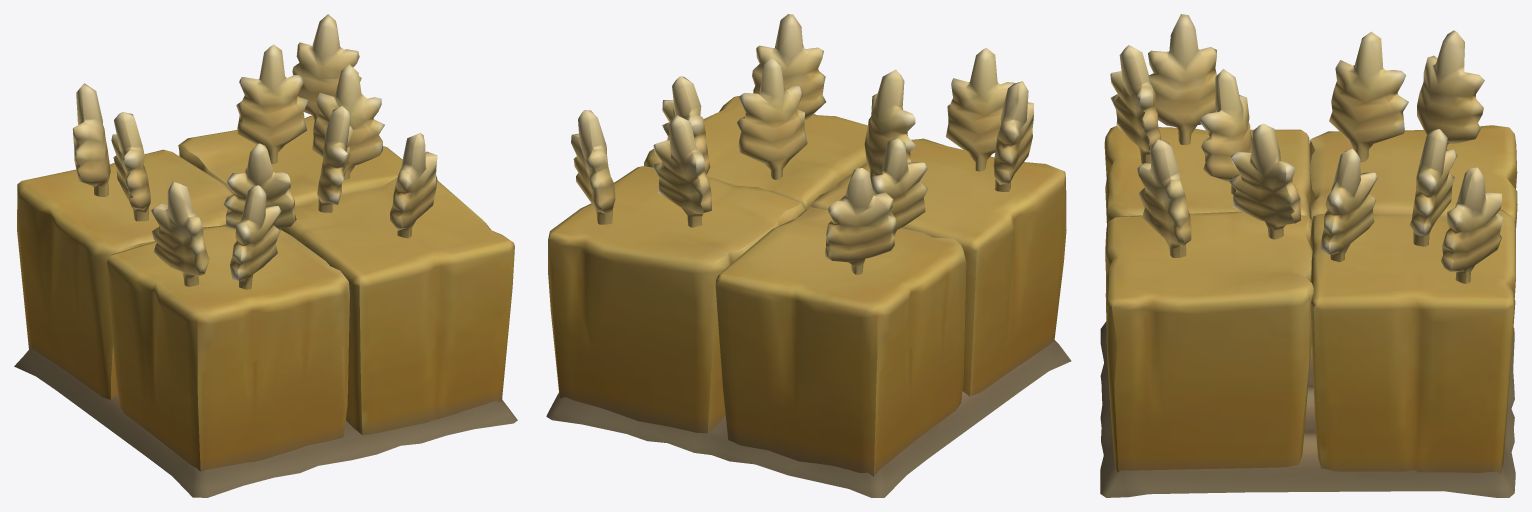
The model's file is SM_Crop_Wheat_03.glb.
3 renders of one model, left to right at view 1: azimuth 30°, elevation 25°; view 2: azimuth 150°, elevation 25°; view 3: azimuth 270°, elevation 25°, orthographic. The views are drawn at different scales.
Visible parts, largest first — view 1: SM_Crop_Wheat_03; view 2: SM_Crop_Wheat_03; view 3: SM_Crop_Wheat_03.
Boxes of the visible parts, x1,y1,x2,y2 form: SM_Crop_Wheat_03: [14, 14, 517, 497]; SM_Crop_Wheat_03: [546, 14, 1071, 497]; SM_Crop_Wheat_03: [1100, 14, 1517, 497].
Bounding box in the file's own units: 3.94 × 3.33 × 3.95.
1 material, 1 textured.
